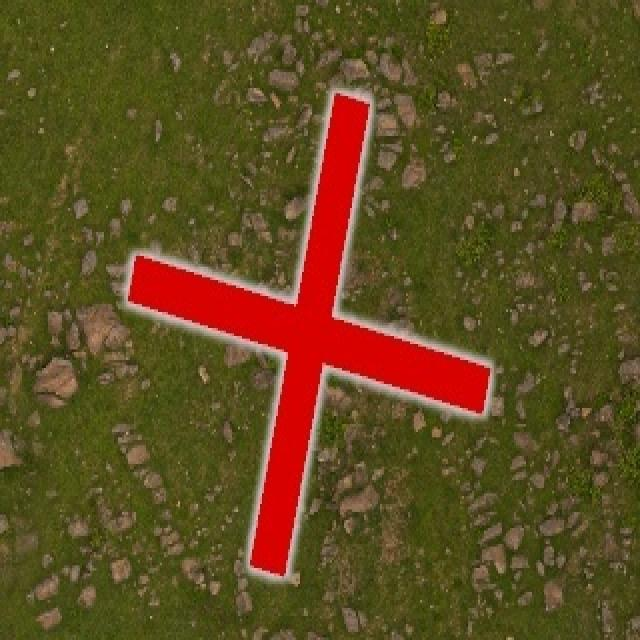x_marker: (127, 92, 489, 575)
